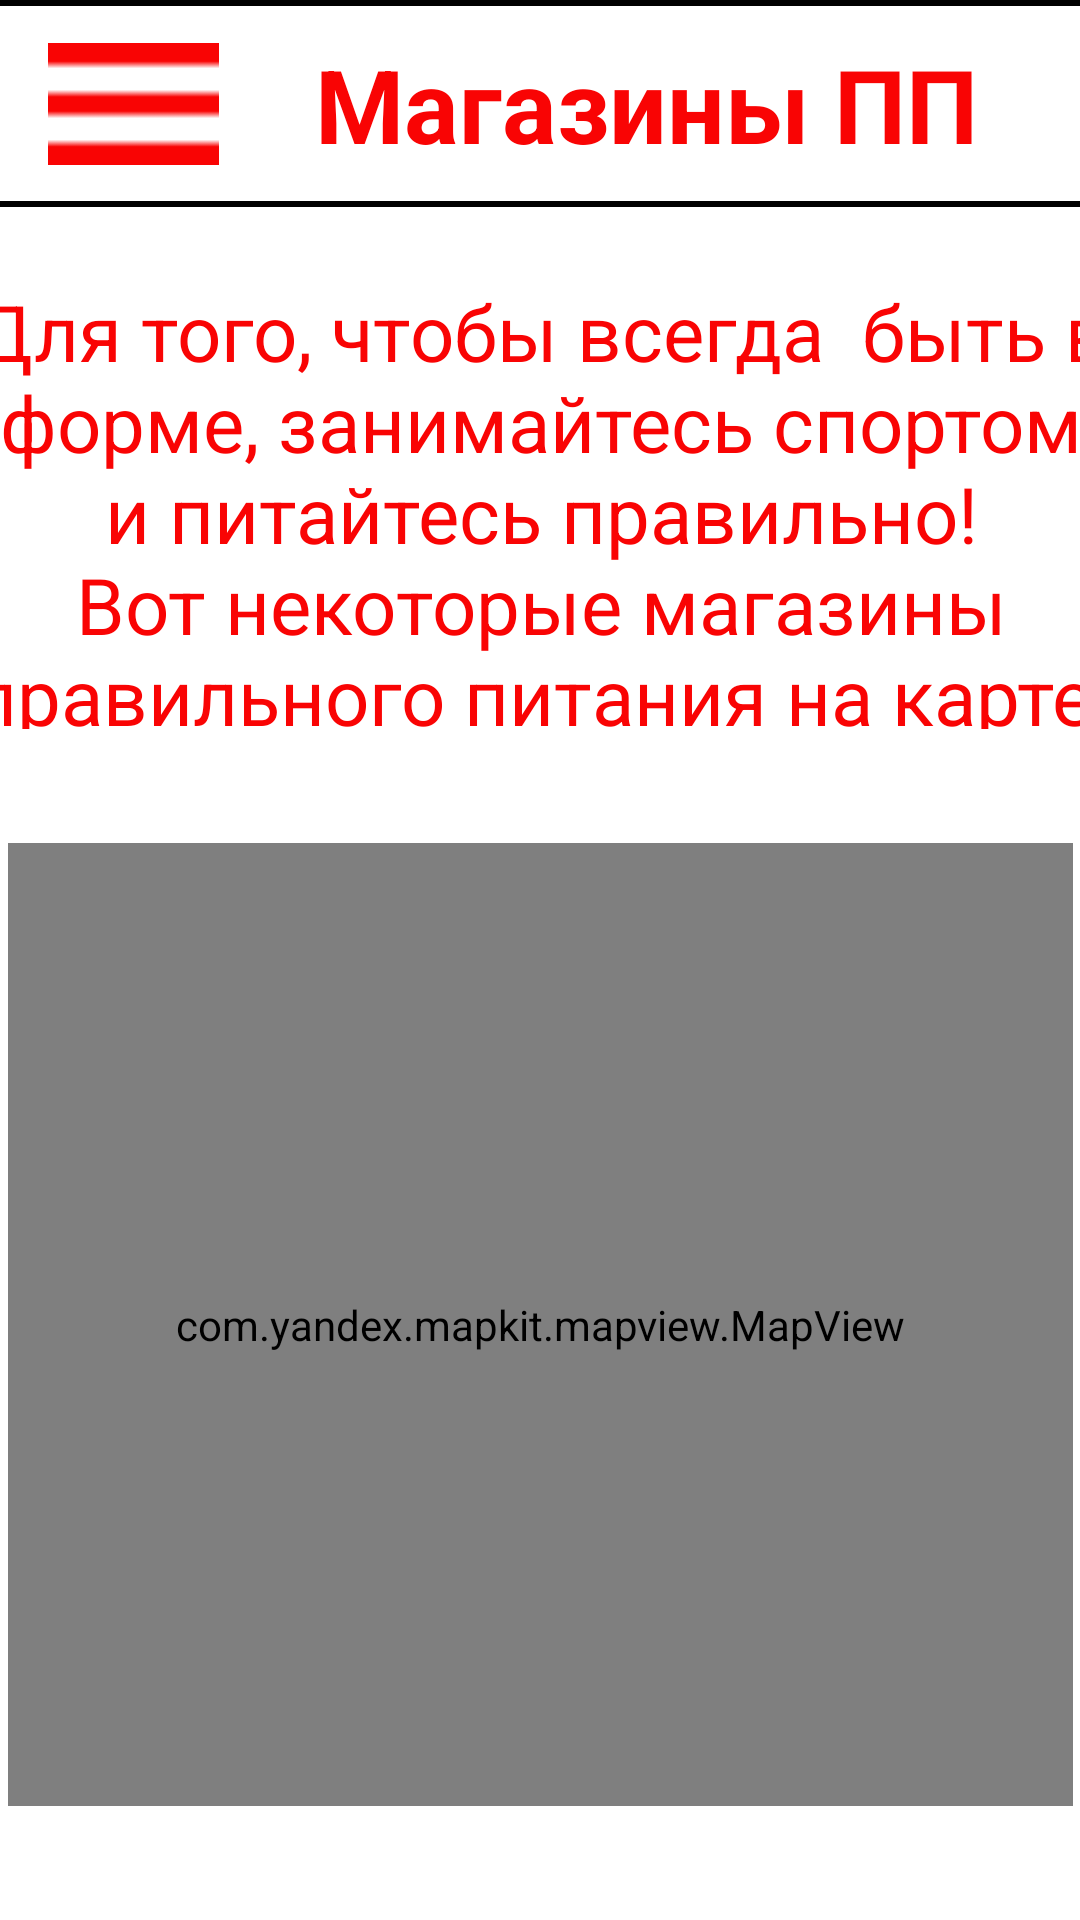

Icon click points for this 1080x1920 phone screenshot, format [x,y]:
burger: [133,104]
